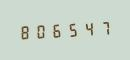eight: (17, 22, 32, 41)
five: (66, 19, 81, 39)
four: (82, 19, 97, 38)
seven: (98, 18, 113, 37)
six: (50, 20, 65, 39)
zero: (33, 21, 48, 40)
